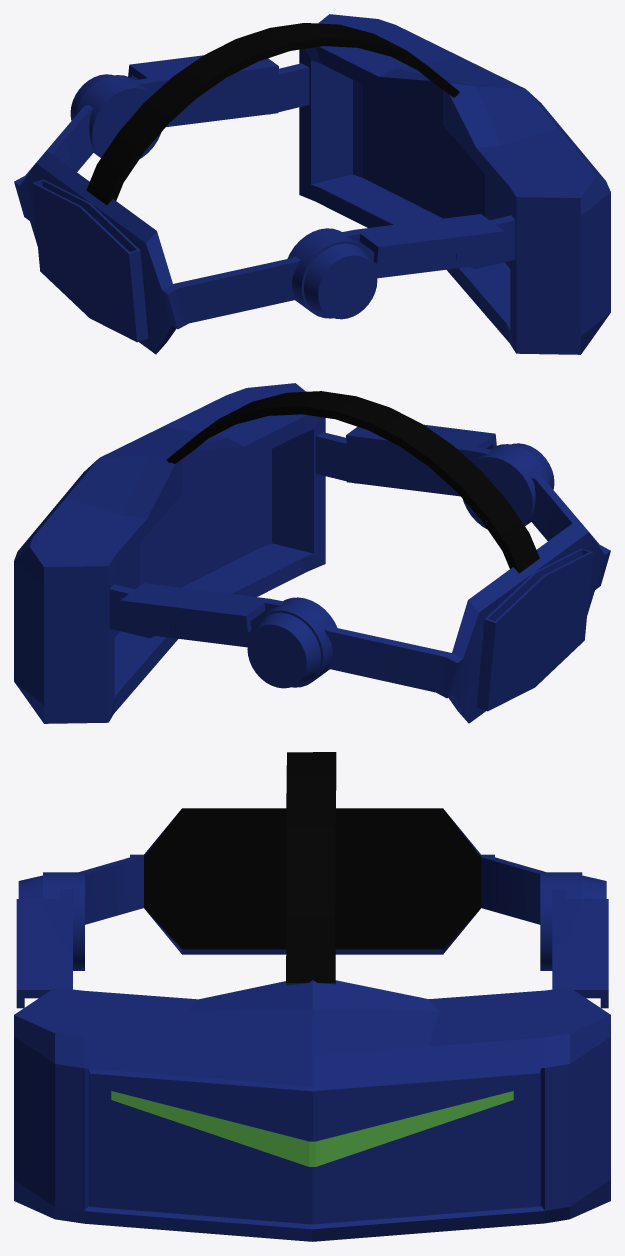
Rendered from Pimax.fbx.
The picture shows the model from 3 angles, top to bottom: view 1: azimuth 30°, elevation 25°; view 2: azimuth 150°, elevation 25°; view 3: azimuth 270°, elevation 25°; orthographic projection. The views are drawn at different scales.
Visible parts, largest first — view 1: Pimax; view 2: Pimax; view 3: Pimax.
Part boxes in pixels (x1,y1,x2,y2): Pimax: [14, 14, 610, 354]; Pimax: [14, 383, 610, 723]; Pimax: [14, 752, 610, 1241].
Bounding box in the file's own units: 246 × 138 × 232.
